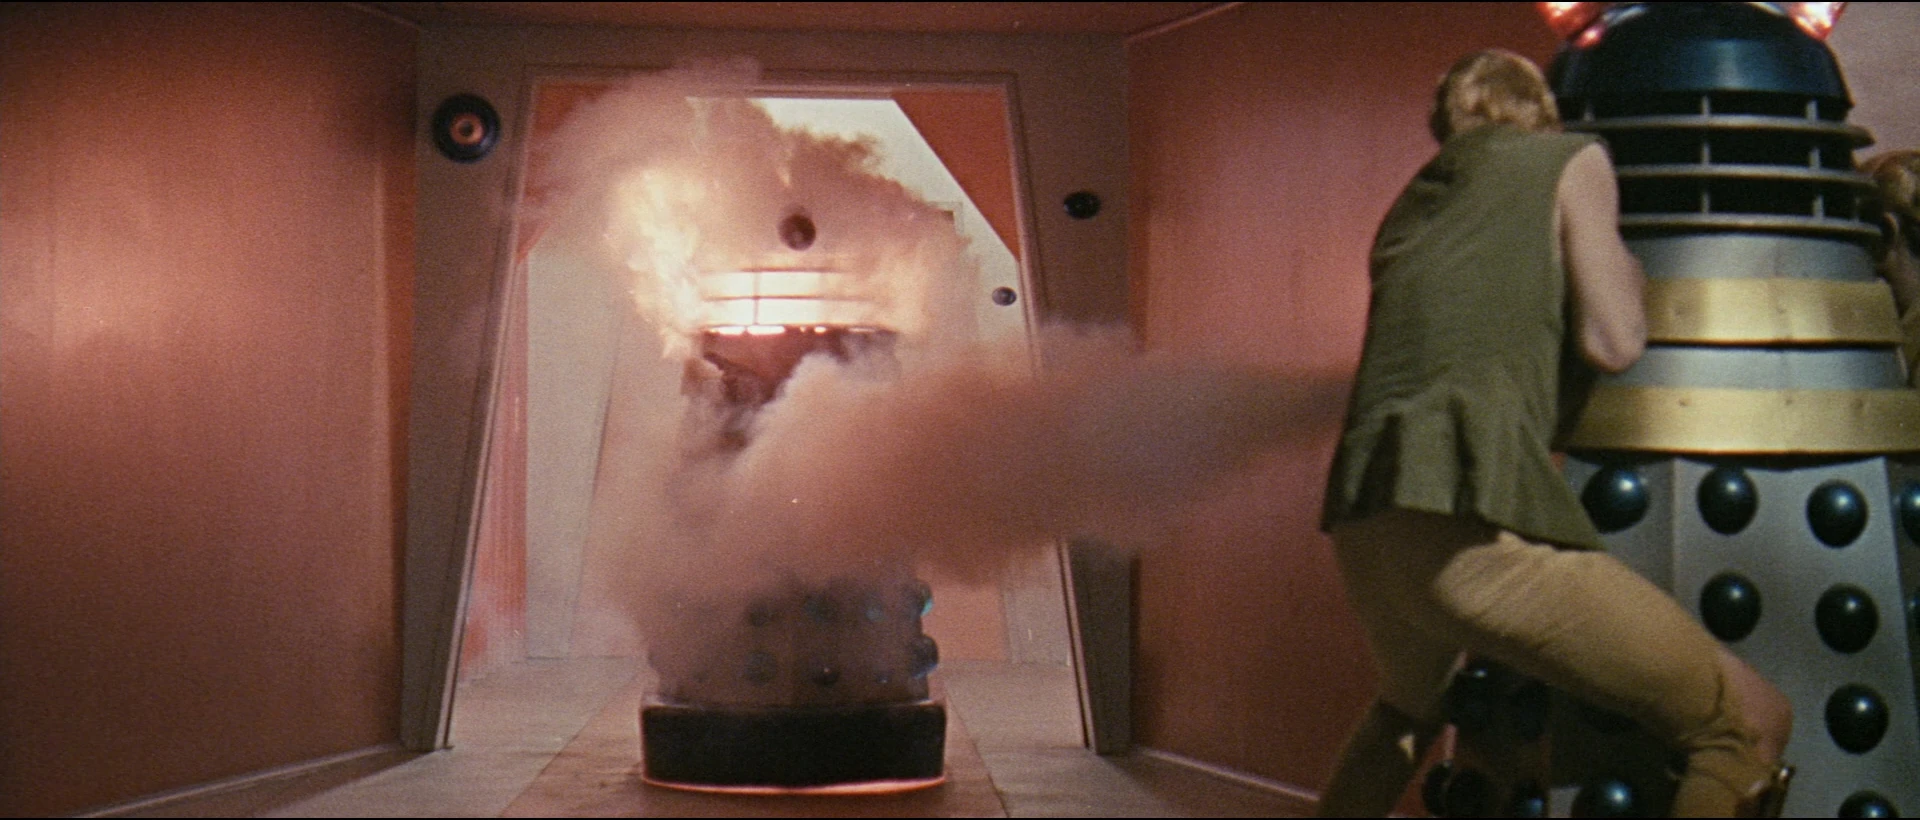Dalek: (1526, 0, 1920, 820)
